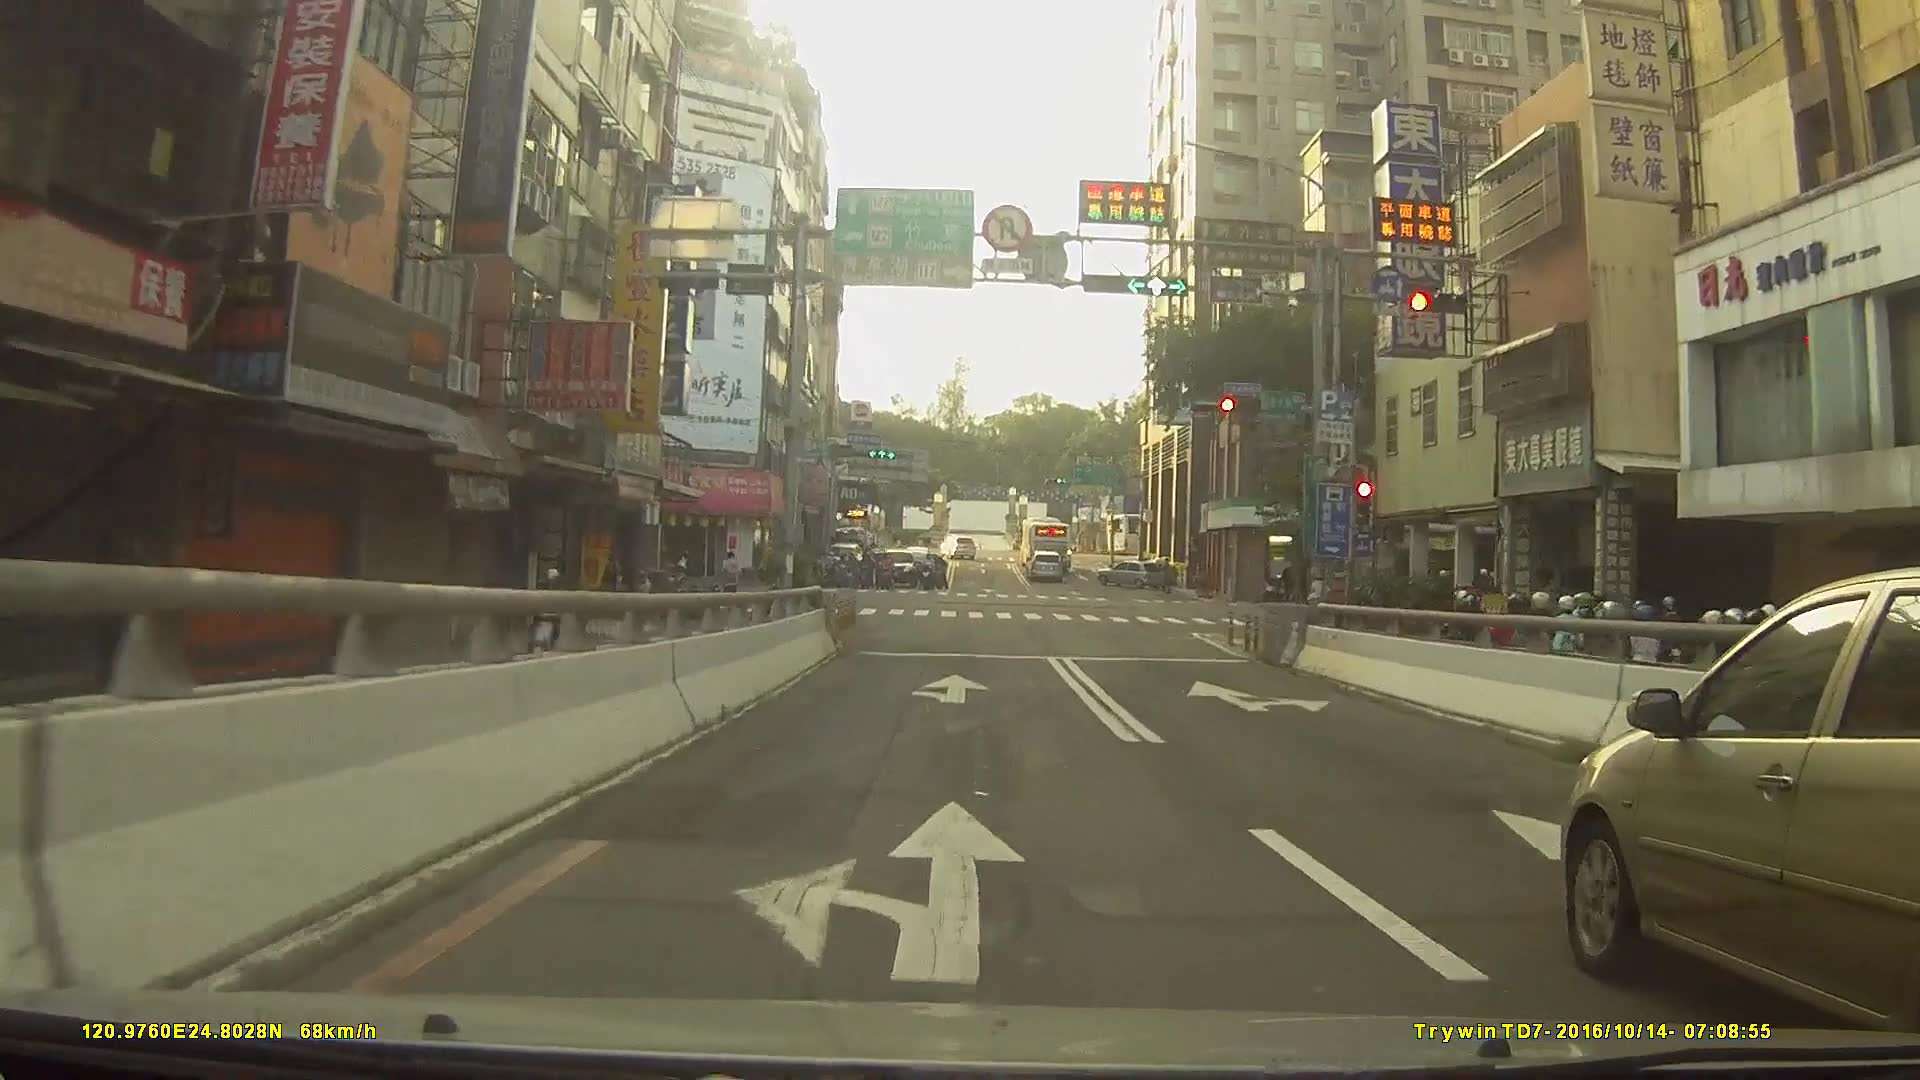pedestrian: (1278, 564, 1298, 606)
rider: (529, 569, 579, 672)
vehicle: (1562, 564, 1920, 1059), (1097, 558, 1172, 592), (1025, 519, 1072, 567), (876, 549, 919, 585), (1030, 548, 1067, 581), (936, 531, 977, 559)
